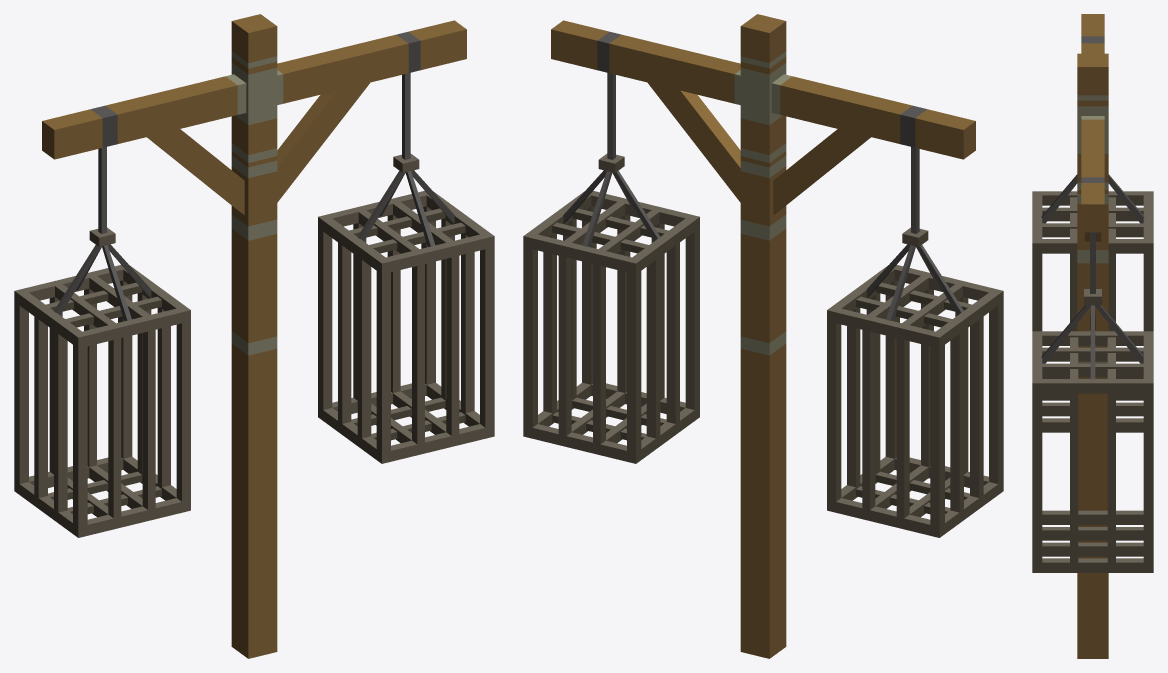
File: HangingCages.gltf
3 renders of one model, left to right at view 1: azimuth 30°, elevation 25°; view 2: azimuth 150°, elevation 25°; view 3: azimuth 270°, elevation 25°, orthographic. The views are drawn at different scales.
Visible parts, largest first — view 1: SF_Prop_HangingCages_01; view 2: SF_Prop_HangingCages_01; view 3: SF_Prop_HangingCages_01.
Boxes of the visible parts, x1,y1,x2,y2 form: SF_Prop_HangingCages_01: (14,14,494,658); SF_Prop_HangingCages_01: (523,14,1003,658); SF_Prop_HangingCages_01: (1032,14,1153,658).
Size of the model in its own units: 0.0787 by 0.1131 by 0.021.
Materials: 1 (1 with a texture image).
